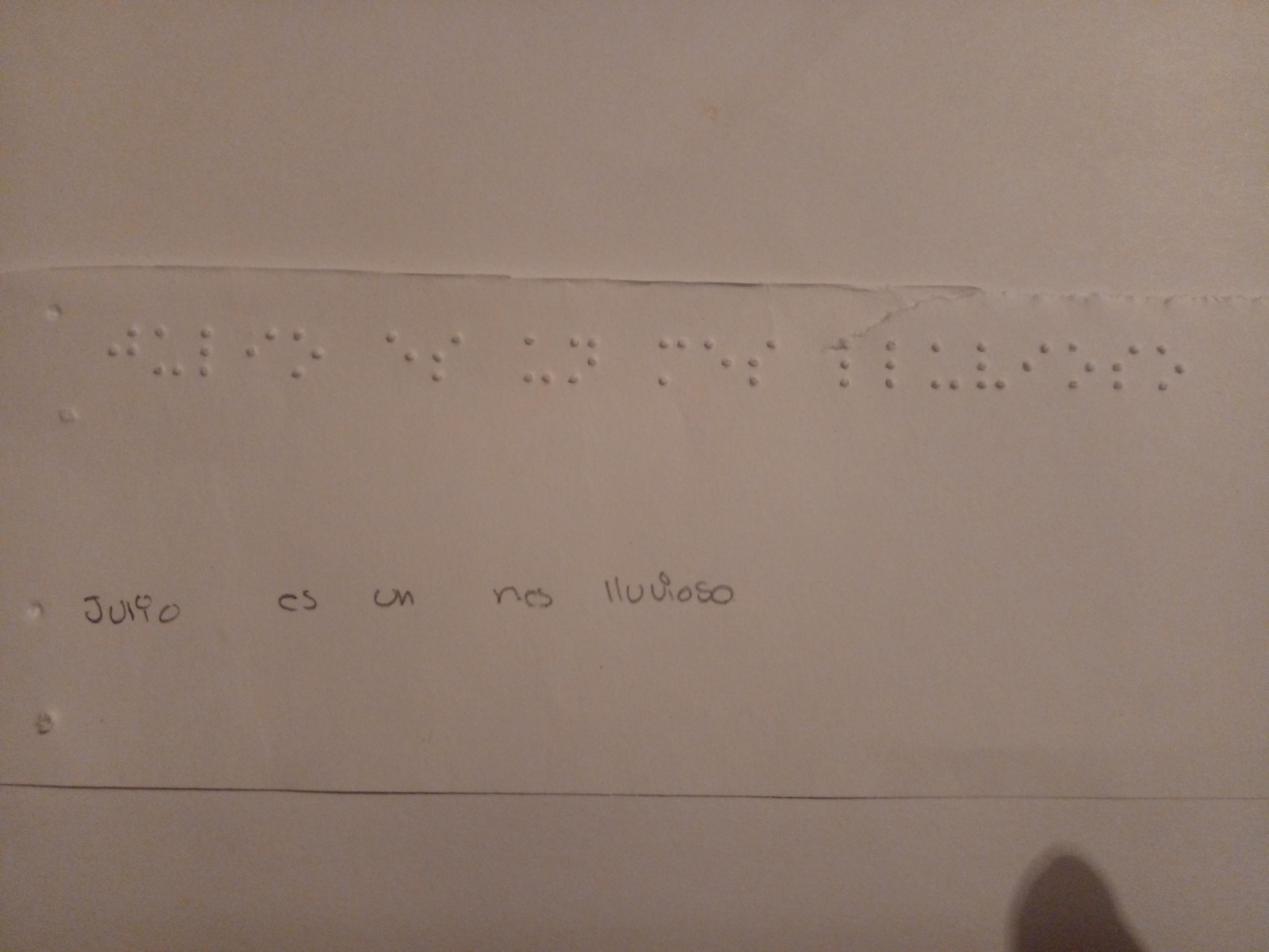e: (380, 310, 426, 403), (705, 322, 745, 415)
i: (237, 305, 282, 406), (1016, 325, 1060, 409)
j: (93, 311, 144, 392)
l: (189, 315, 234, 418), (833, 324, 867, 418), (878, 321, 906, 418)
m: (649, 324, 697, 412)
n: (556, 313, 606, 415)
o: (1146, 321, 1208, 440), (285, 313, 333, 412), (1061, 321, 1106, 418)
s: (426, 315, 479, 411), (744, 322, 787, 420), (1104, 319, 1143, 421)
u: (919, 324, 968, 421), (143, 311, 189, 412), (511, 310, 556, 412)
v: (964, 322, 1013, 414)
